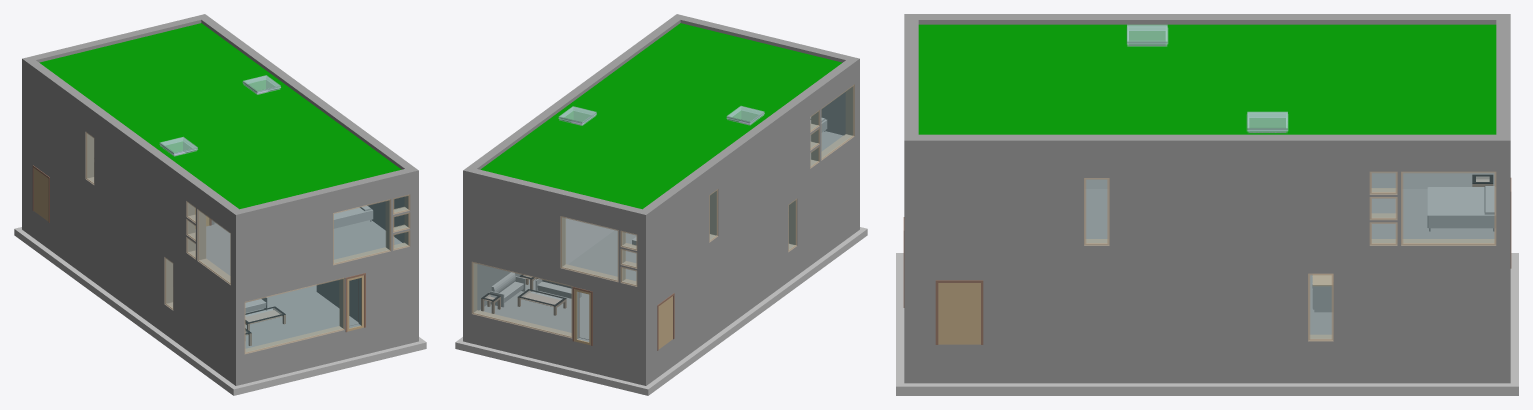
The picture shows the model from 3 angles, left to right: view 1: azimuth 30°, elevation 25°; view 2: azimuth 150°, elevation 25°; view 3: azimuth 270°, elevation 25°; orthographic projection. The views are drawn at different scales.
Parts seen in each view (by area): view 1: 09g7Eo3WDEihdnsYS1YDoI, 2O2Fr$t4X7Zf8NOew3FNhv, 2O2Fr$t4X7Zf8NOew3FLPP, 2O2Fr$t4X7Zf8NOew3FLOH, 2O2Fr$t4X7Zf8NOew3FNr2, 2O2Fr$t4X7Zf8NOew3FKE5, 2O2Fr$t4X7Zf8NOew3FKEr, 0jf0rYHfX3RAB3bSIRjmr1, 2OBrcmyk58NupXoVOHUtxr, 0jf0rYHfX3RAB3bSIRjmoa, 0jf0rYHfX3RAB3bSIRjmpw, 0kF45Qs8L9PAM9kmb1lT5t (+18 smaller); view 2: 09g7Eo3WDEihdnsYS1YDoI, 2O2Fr$t4X7Zf8NOew3FNhv, 2O2Fr$t4X7Zf8NOew3FLPP, 2O2Fr$t4X7Zf8NOew3FLQD, 2O2Fr$t4X7Zf8NOew3FNtn, 2O2Fr$t4X7Zf8NOew3FKE5, 2O2Fr$t4X7Zf8NOew3FK80, 0jf0rYHfX3RAB3bSIRjmr1, 0jf0rYHfX3RAB3bSIRjmmy, 0kF45Qs8L9PAM9kmb1lT5t, 0jf0rYHfX3RAB3bSIRjmpw, 2OBrcmyk58NupXoVOHUtgP (+18 smaller); view 3: 09g7Eo3WDEihdnsYS1YDoI, 2O2Fr$t4X7Zf8NOew3FNqI, 2O2Fr$t4X7Zf8NOew3FLR9, 2O2Fr$t4X7Zf8NOew3FK9N, 0jf0rYHfX3RAB3bSIRjmpw, 0kF45Qs8L9PAM9kmb1lT5d, 0jf0rYHfX3RAB3bSIRjmr1, 1hOSvn6df7F8_7GcBWlRGQ, 2OBrcmyk58NupXoVOHUtDX, 2OBrcmyk58NupXoVOHUtI8, 0jf0rYHfX3RAB3bSIRjmmy, 2O2Fr$t4X7Zf8NOew3FKau (+13 smaller).
Part boxes in pixels (<box>): 09g7Eo3WDEihdnsYS1YDoI: <box>39,23,401,209</box>; 2O2Fr$t4X7Zf8NOew3FNhv: <box>27,139,230,354</box>; 2O2Fr$t4X7Zf8NOew3FLPP: <box>22,72,235,291</box>; 2O2Fr$t4X7Zf8NOew3FLOH: <box>236,183,418,291</box>; 2O2Fr$t4X7Zf8NOew3FNr2: <box>231,249,410,358</box>; 2O2Fr$t4X7Zf8NOew3FKE5: <box>27,206,230,382</box>; 2O2Fr$t4X7Zf8NOew3FKEr: <box>231,316,410,385</box>; 0jf0rYHfX3RAB3bSIRjmr1: <box>27,60,238,224</box>; 2OBrcmyk58NupXoVOHUtxr: <box>245,285,358,348</box>; 0jf0rYHfX3RAB3bSIRjmoa: <box>231,169,410,228</box>; 0jf0rYHfX3RAB3bSIRjmpw: <box>201,17,418,185</box>; 0kF45Qs8L9PAM9kmb1lT5t: <box>14,227,227,387</box>; 09g7Eo3WDEihdnsYS1YDoI: <box>480,23,842,209</box>; 2O2Fr$t4X7Zf8NOew3FNhv: <box>651,139,854,354</box>; 2O2Fr$t4X7Zf8NOew3FLPP: <box>646,72,859,291</box>; 2O2Fr$t4X7Zf8NOew3FLQD: <box>463,183,645,291</box>; 2O2Fr$t4X7Zf8NOew3FNtn: <box>463,247,650,358</box>; 2O2Fr$t4X7Zf8NOew3FKE5: <box>651,206,854,382</box>; 2O2Fr$t4X7Zf8NOew3FK80: <box>463,314,650,385</box>; 0jf0rYHfX3RAB3bSIRjmr1: <box>643,60,854,224</box>; 0jf0rYHfX3RAB3bSIRjmmy: <box>463,167,650,228</box>; 0kF45Qs8L9PAM9kmb1lT5t: <box>629,235,856,395</box>; 0jf0rYHfX3RAB3bSIRjmpw: <box>468,14,684,169</box>; 2OBrcmyk58NupXoVOHUtgP: <box>479,279,589,339</box>; 09g7Eo3WDEihdnsYS1YDoI: <box>918,24,1496,134</box>; 2O2Fr$t4X7Zf8NOew3FNqI: <box>904,249,1496,344</box>; 2O2Fr$t4X7Zf8NOew3FLR9: <box>904,159,1510,248</box>; 2O2Fr$t4X7Zf8NOew3FK9N: <box>904,344,1496,383</box>; 0jf0rYHfX3RAB3bSIRjmpw: <box>904,134,1496,159</box>; 0kF45Qs8L9PAM9kmb1lT5d: <box>896,373,1518,395</box>; 0jf0rYHfX3RAB3bSIRjmr1: <box>918,14,1496,24</box>; 1hOSvn6df7F8_7GcBWlRGQ: <box>935,280,983,344</box>; 2OBrcmyk58NupXoVOHUtDX: <box>1370,189,1495,239</box>; 2OBrcmyk58NupXoVOHUtI8: <box>1427,186,1495,231</box>; 0jf0rYHfX3RAB3bSIRjmmy: <box>1496,14,1510,159</box>; 2O2Fr$t4X7Zf8NOew3FKau: <box>1084,172,1495,188</box>.
Size of the model in its own units: 9.28 by 8.18 by 18.28.
